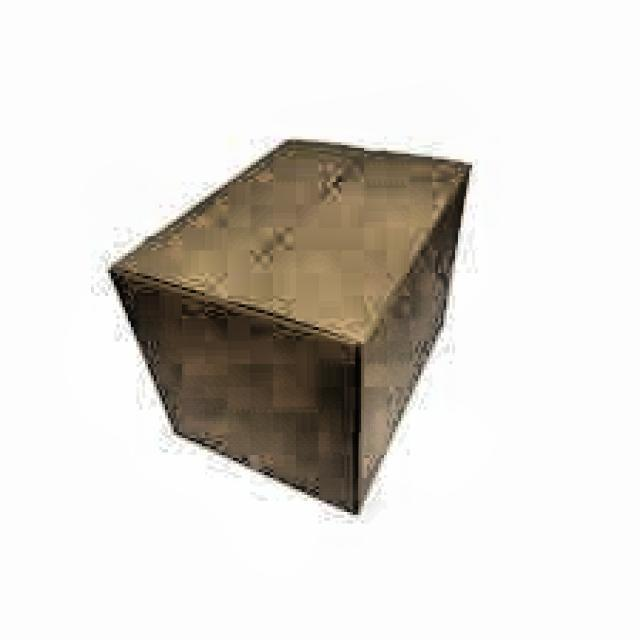cardboard: (105, 134, 472, 515)
